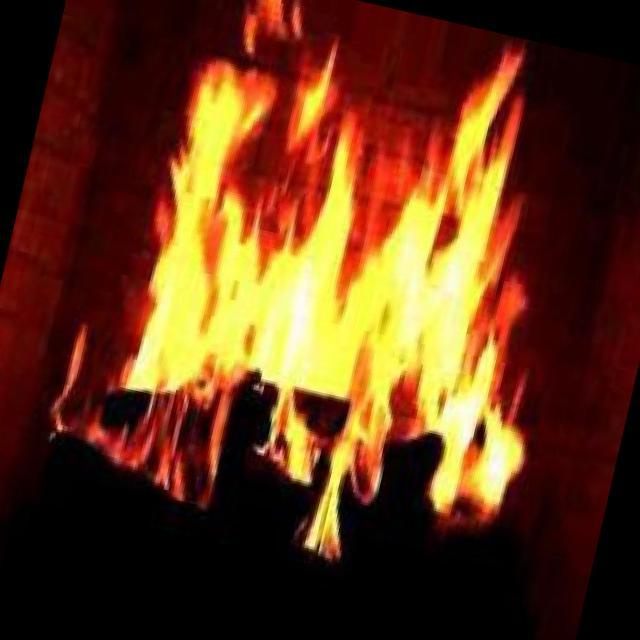Smoke: (34, 0, 627, 602)
